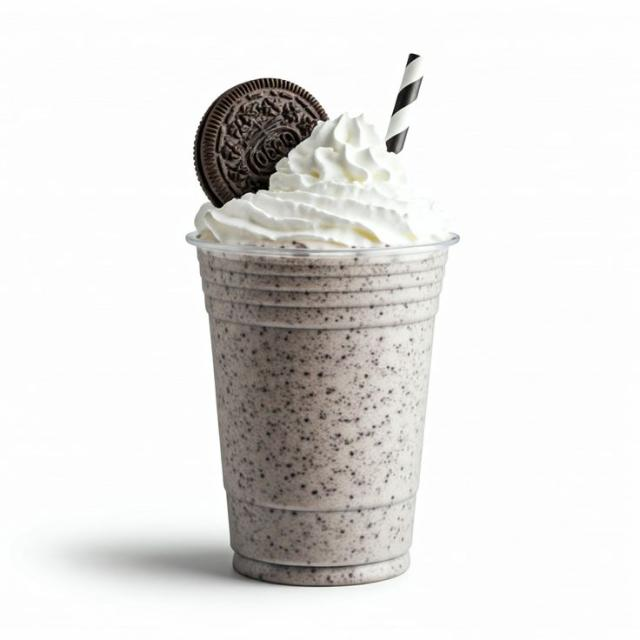plastic cup: (187, 77, 461, 586)
